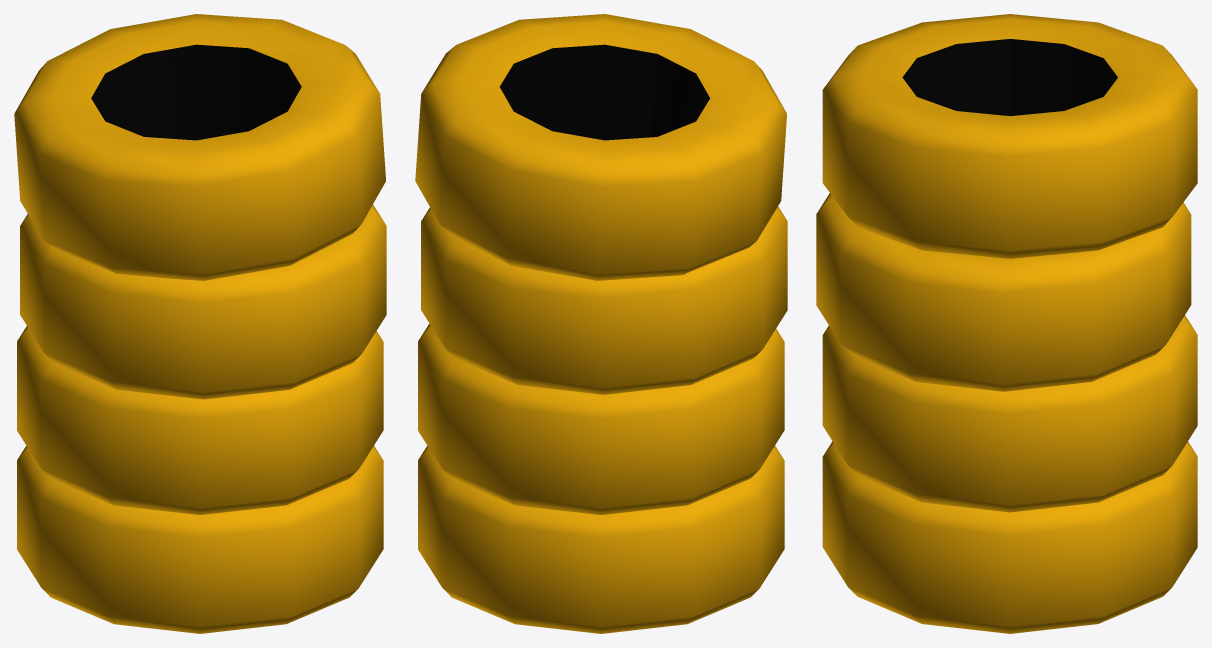
Rendered from prop_tyre_4x1_A.FBX.
3 views of the same model, side by side, from view 1: azimuth 30°, elevation 25°; view 2: azimuth 150°, elevation 25°; view 3: azimuth 270°, elevation 25° (orthographic). The views are drawn at different scales.
Visible parts, largest first — view 1: prop_tyre_stack_A; view 2: prop_tyre_stack_A; view 3: prop_tyre_stack_A.
Part boxes in pixels (bbox=[...]): prop_tyre_stack_A: bbox=[14, 14, 386, 633]; prop_tyre_stack_A: bbox=[415, 14, 787, 633]; prop_tyre_stack_A: bbox=[816, 14, 1197, 633].
Bounding box in the file's own units: 33.69 × 48.69 × 33.74.
Materials: 1 (1 with a texture image).
